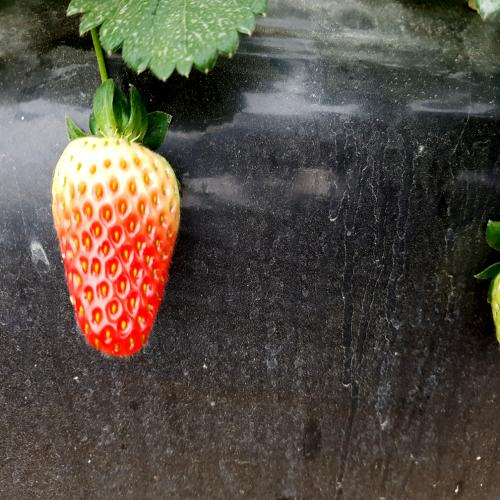partially-ripe: (43, 125, 190, 365)
